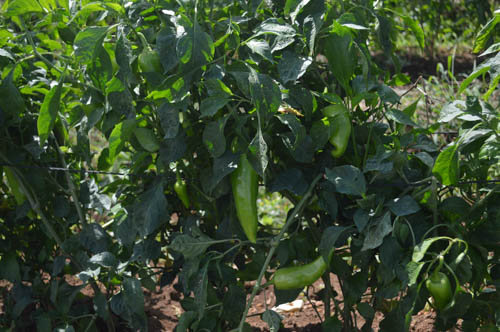ChiliPepper: (225, 150, 266, 246), (268, 252, 346, 297), (322, 102, 353, 161), (429, 274, 455, 308), (133, 47, 164, 75), (169, 178, 193, 210)
